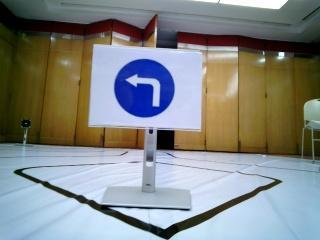left: (99, 50, 186, 126)
